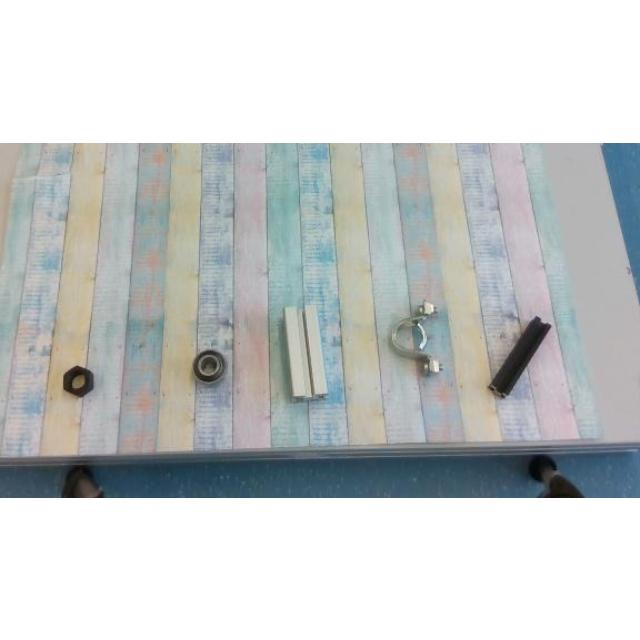Bearing2: (192, 348, 224, 382)
F20_20_B: (488, 315, 550, 397)
Housing: (391, 300, 442, 372)
M20: (63, 365, 93, 395)
S40_40_G: (285, 304, 327, 396)
